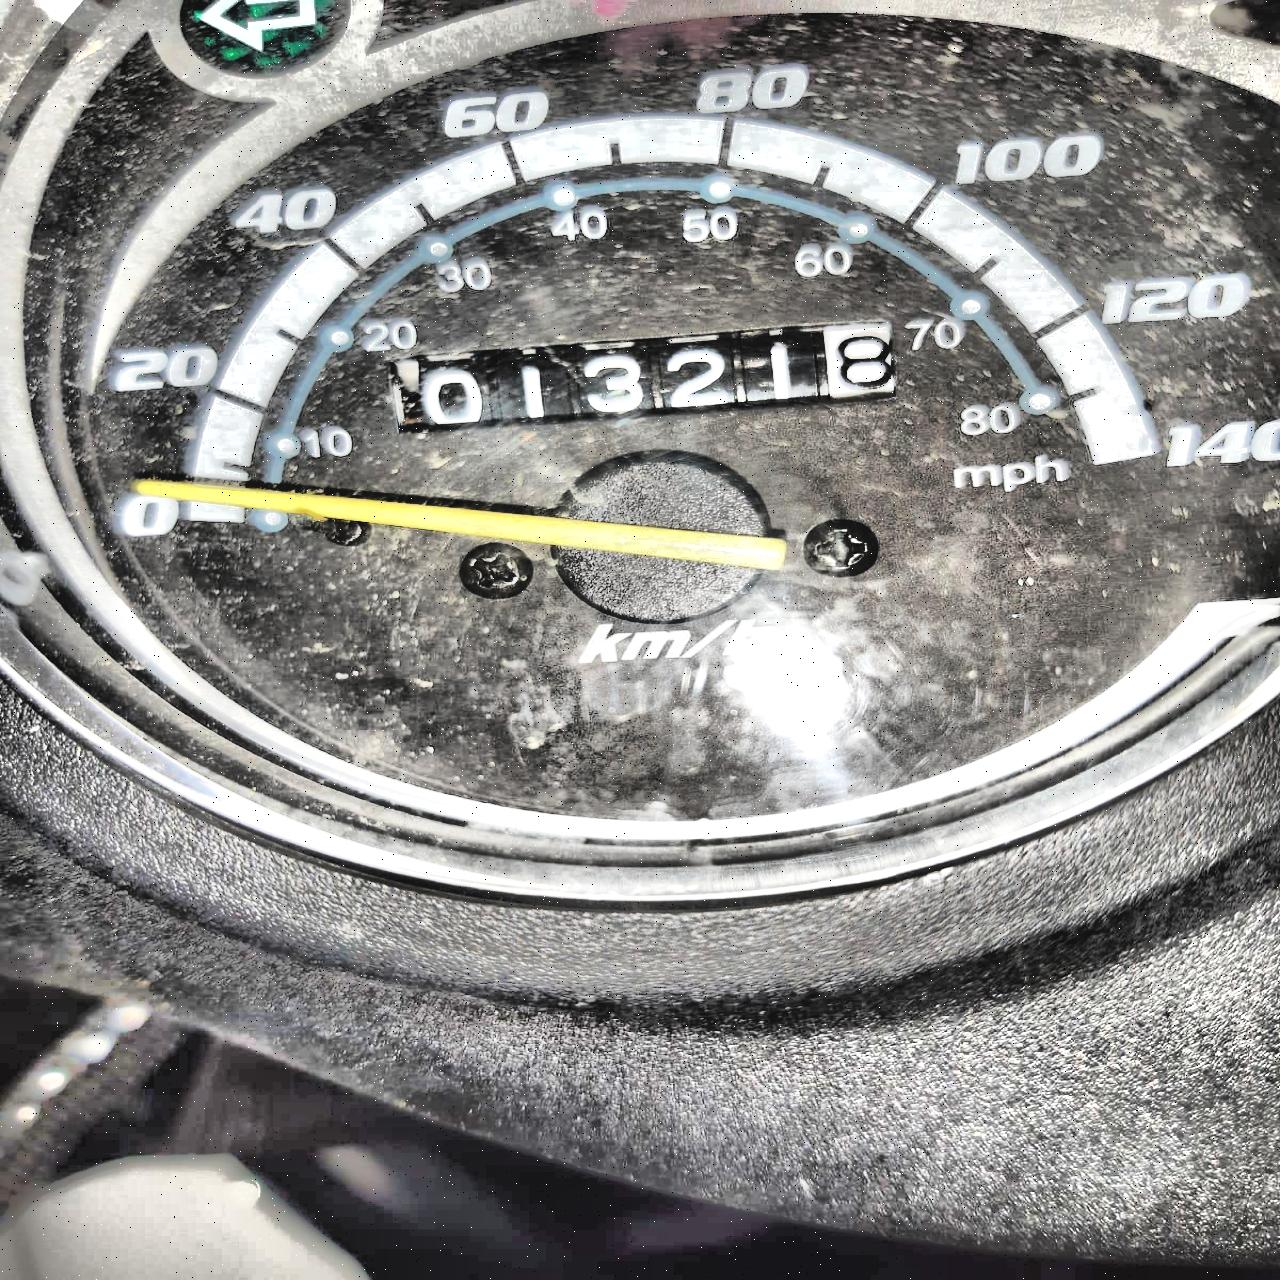0: (418, 365, 490, 433), (393, 318, 418, 348)
1: (753, 332, 799, 418), (510, 358, 554, 430)
2: (665, 347, 734, 417)
3: (580, 353, 646, 411)
8: (823, 327, 898, 408)
odometer: (386, 312, 908, 448)
